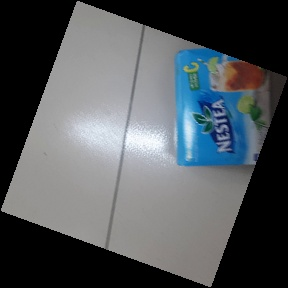Nestea: (172, 47, 288, 169)
